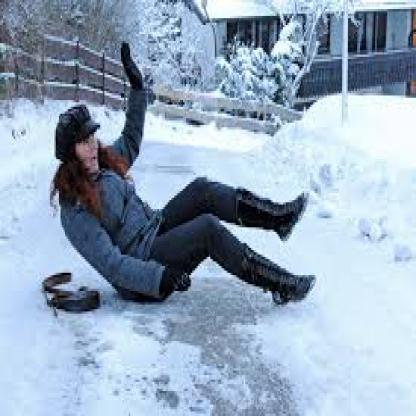Fall_Down: (53, 39, 320, 309)
